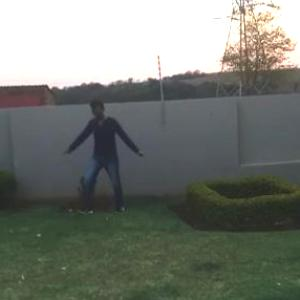land: (63, 105, 145, 219)
